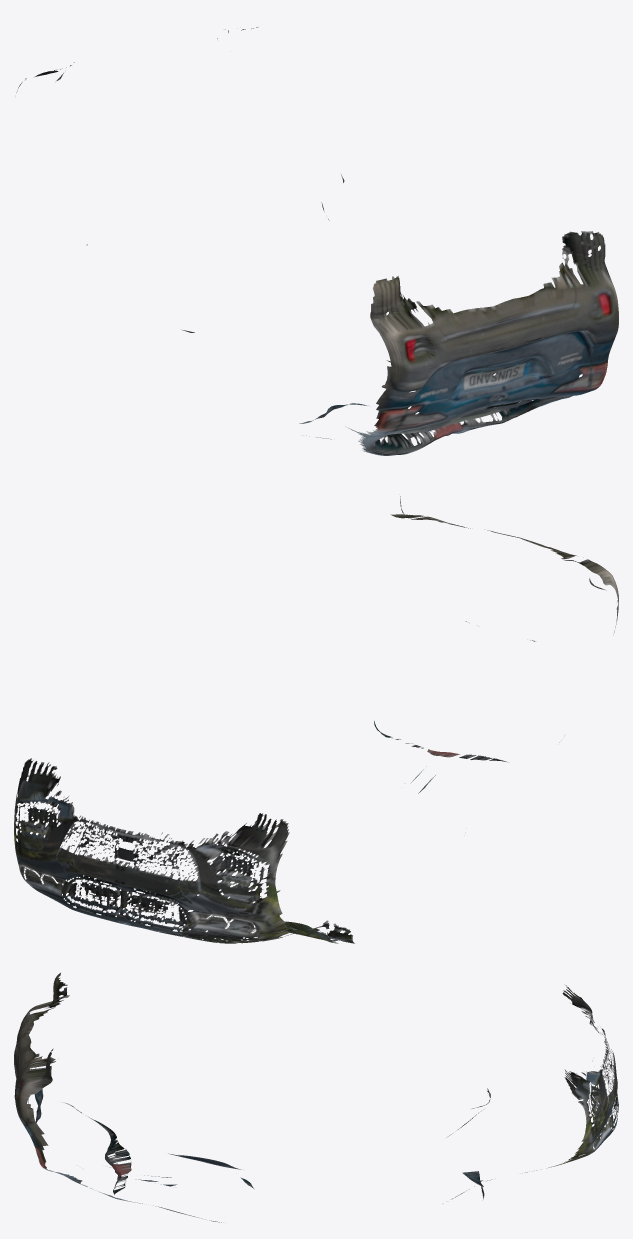
File: scene_vggt_max_depth_3.0.glb
3 renders of one model, top to bottom at view 1: azimuth 30°, elevation 25°; view 2: azimuth 150°, elevation 25°; view 3: azimuth 270°, elevation 25°, orthographic. The views are drawn at different scales.
Parts seen in each view (by area): view 1: world; view 2: world; view 3: world.
Boxes of the visible parts, box(x1,y1,x2,y2) form: world: box(16, 27, 618, 455); world: box(14, 496, 618, 943); world: box(14, 973, 618, 1222).
Bounding box in the file's own units: 0.3544 × 0.2982 × 0.8561.
